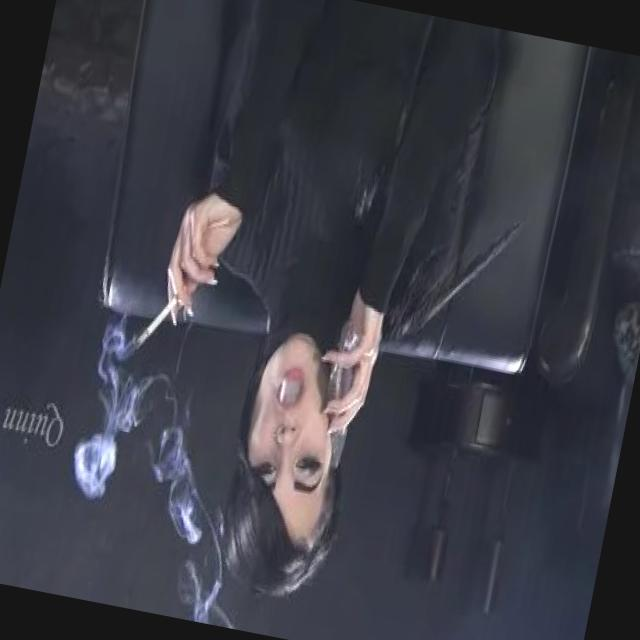cigarette: (127, 287, 181, 358)
